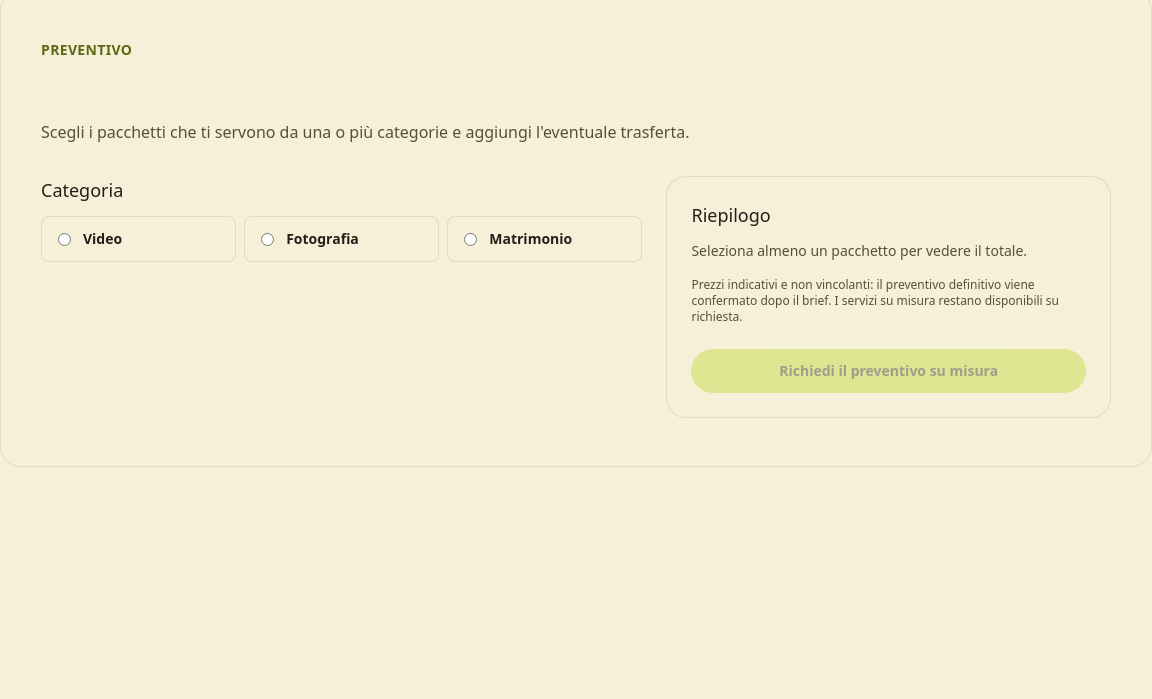
QuoteEstimator › combines packages across macrocategories and applies the transfer once
Click the radio button labelled "Video": x=64, y=240 58,233 -> 71,246
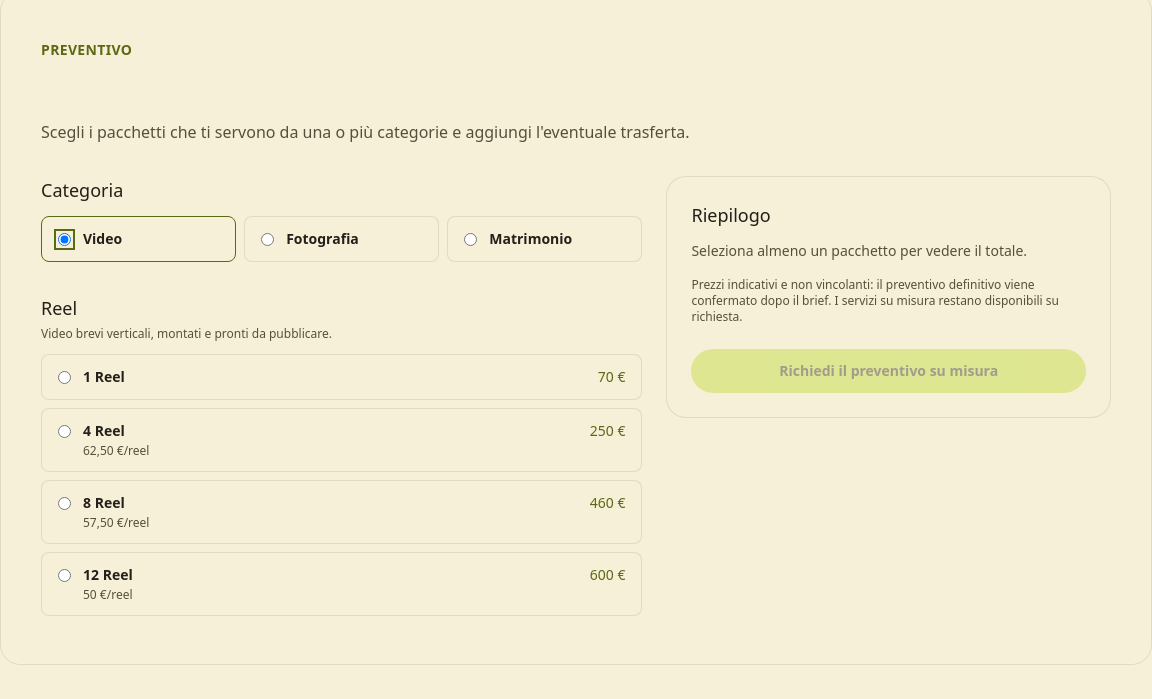
Click the radio button labelled "4 Reel 250 € 62,50 €/reel": x=64, y=432 58,425 -> 71,438
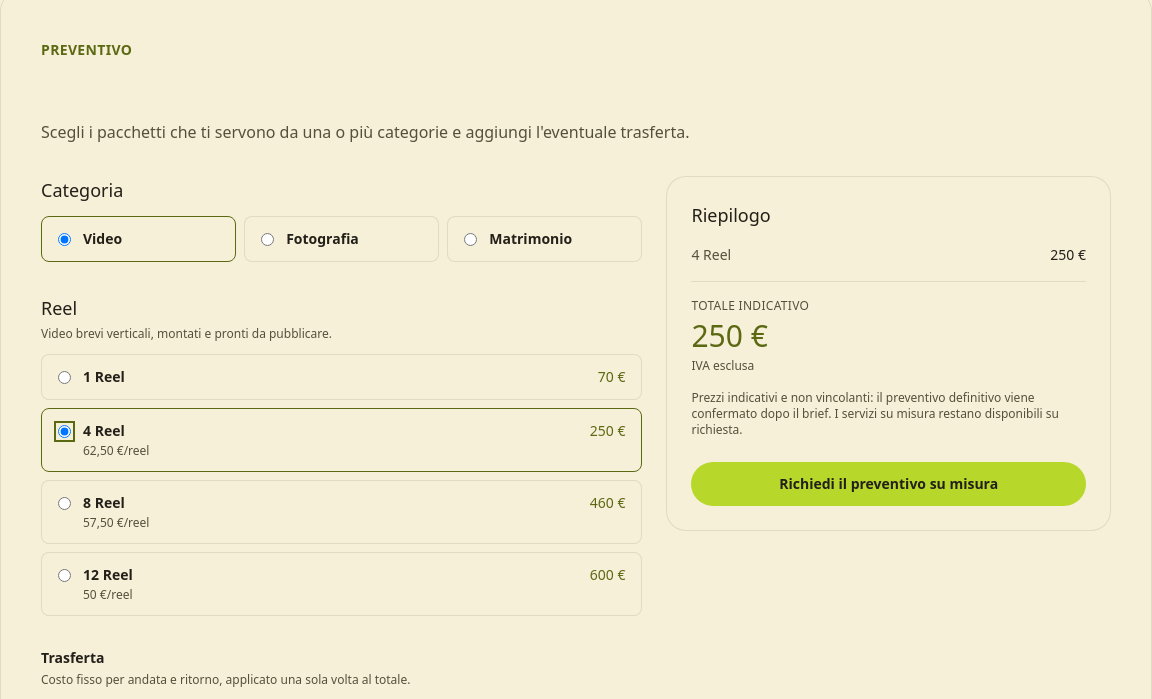
Click the radio button labelled "Fotografia": x=268, y=240 261,233 -> 274,246
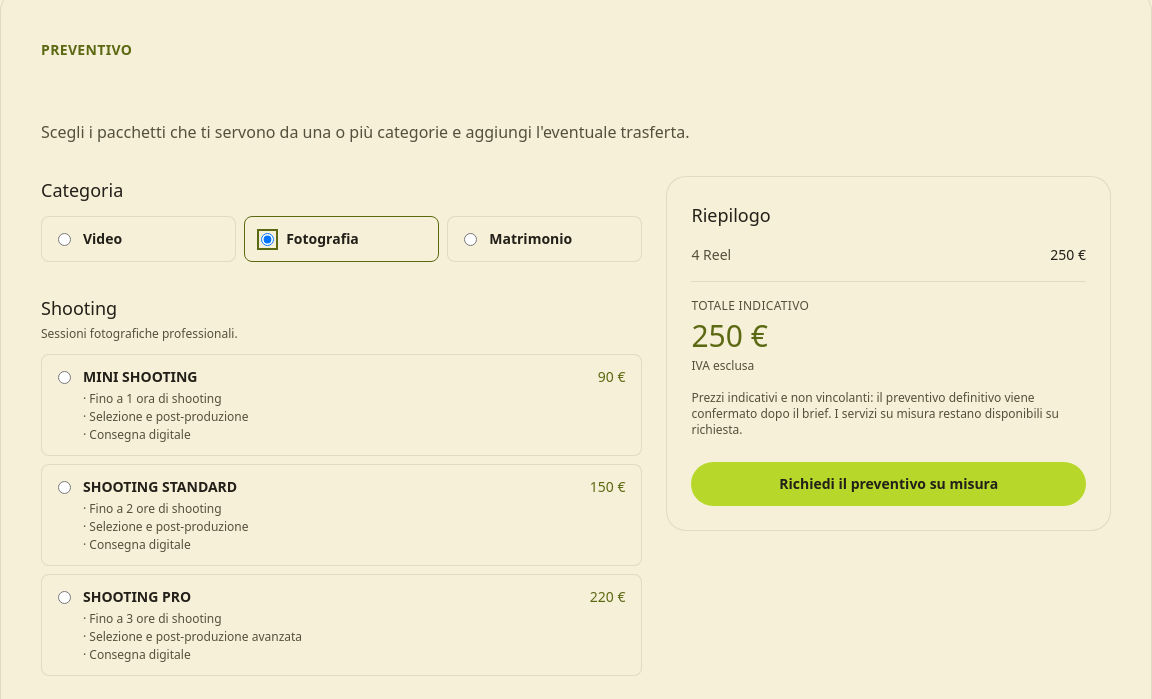
Click the radio button labelled "MINI SHOOTING": x=64, y=378 58,371 -> 71,384
(page scrolled)
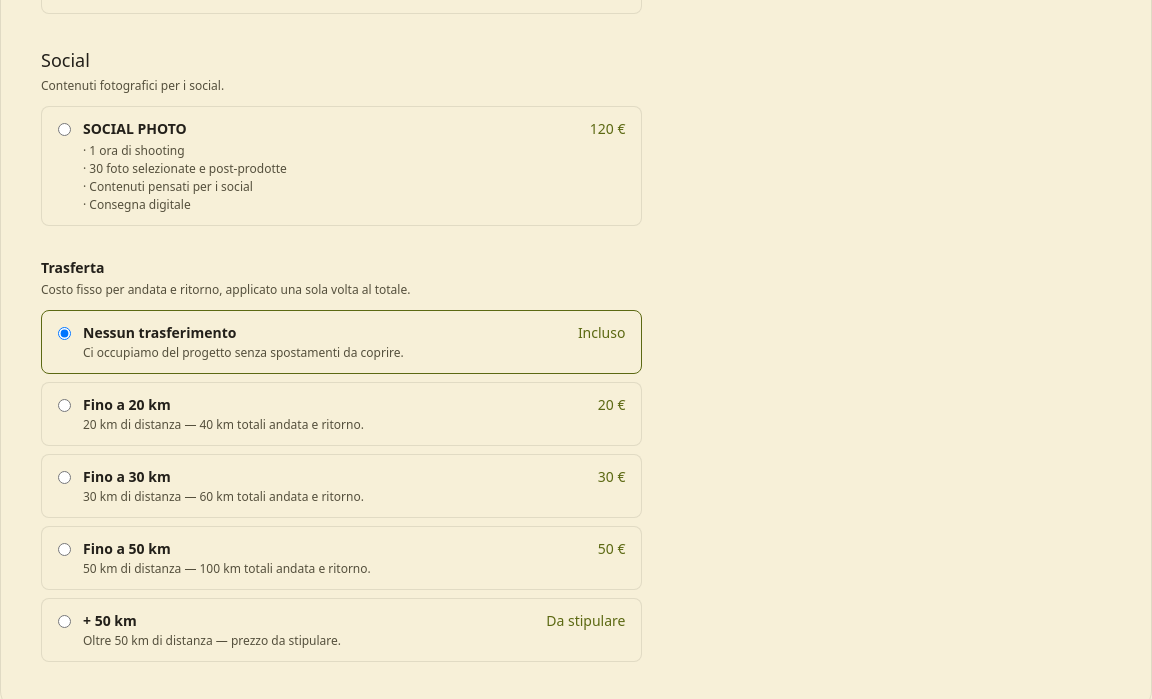
Click the radio button labelled "Fino a 30 km": x=64, y=478 58,471 -> 71,484
(page scrolled)
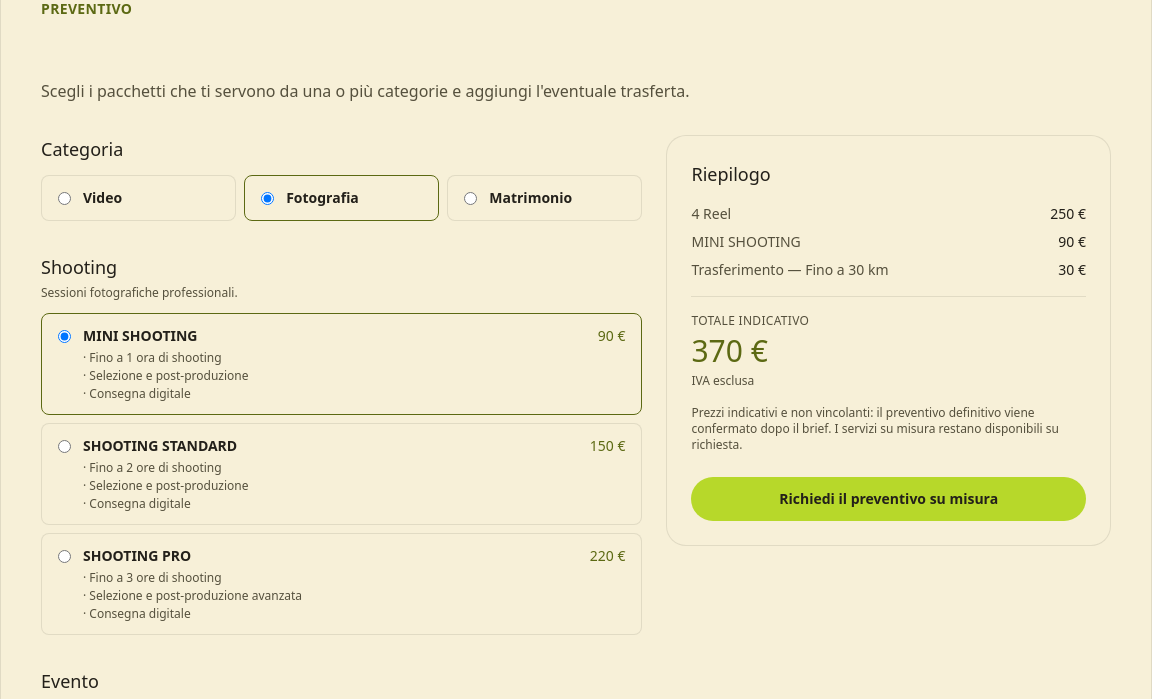
Expected: the text "370 €" is shown, 691,330 -> 768,371
